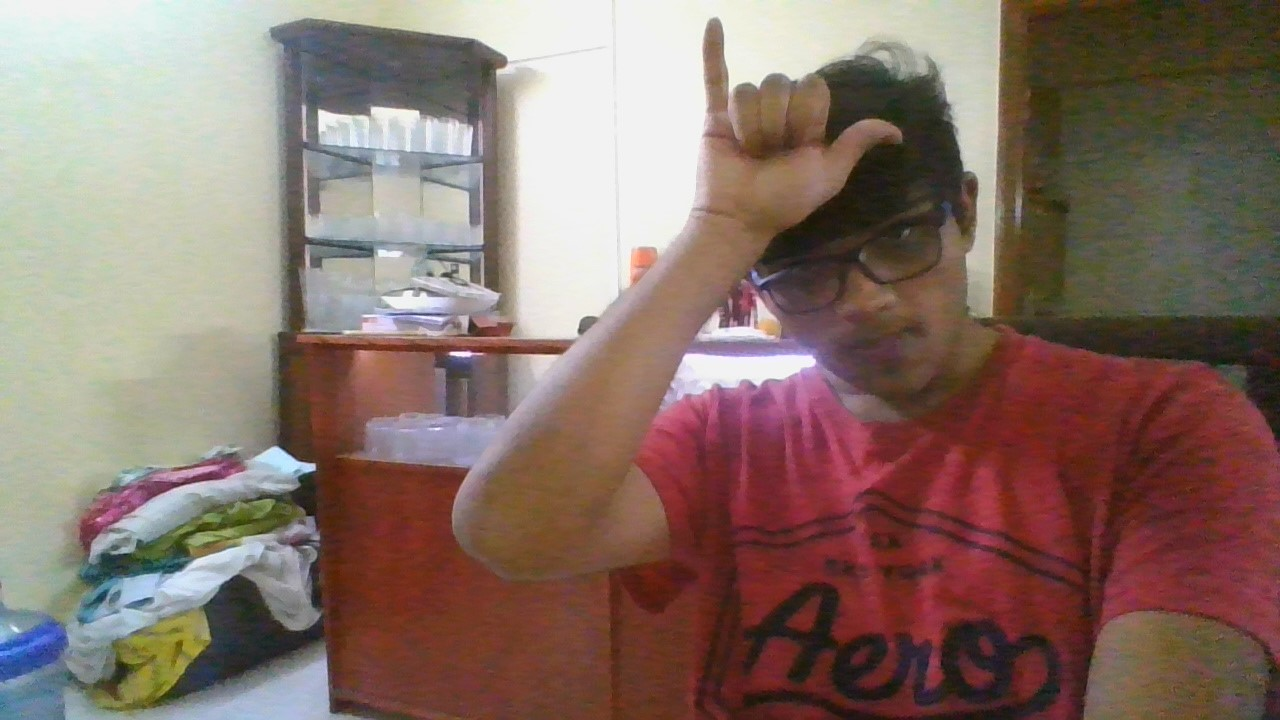y: (690, 13, 903, 238)
